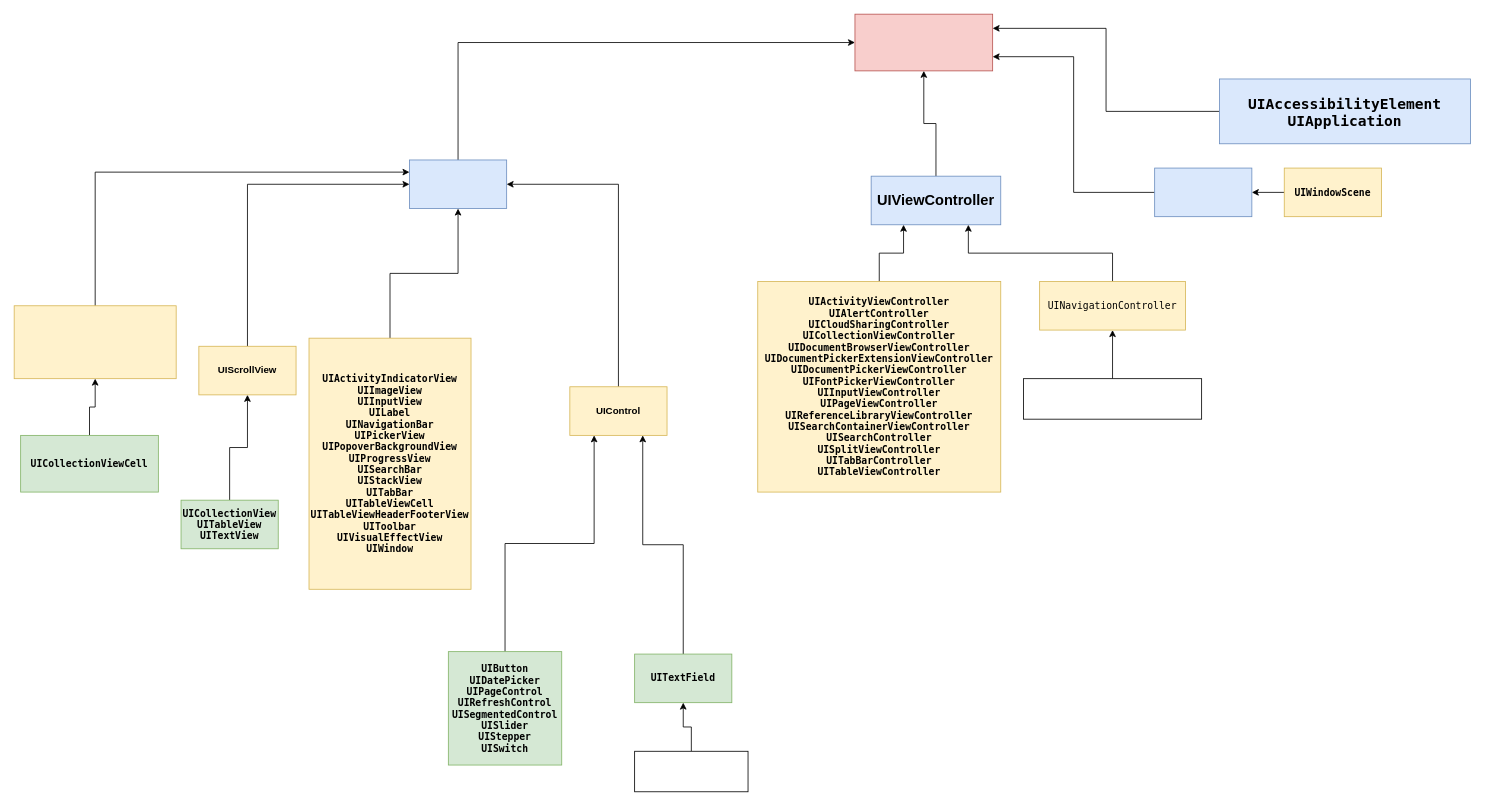
Image size: 1485x806. Some labels were removed from this diagram. The box of each missing label's shape, as (x1, y1, x2, y2) in pixels:
UICollectionReusableView: (13, 305, 176, 379)
UIImagePickerController UIVideoEditorController: (1023, 378, 1202, 419)
UIRespondes: (854, 13, 993, 71)
UIScene: (1154, 167, 1252, 217)
UISearchTextField: (634, 750, 748, 792)
UIView: (409, 159, 507, 209)
